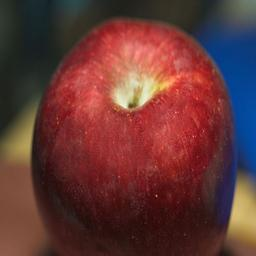apple: (28, 17, 235, 251)
